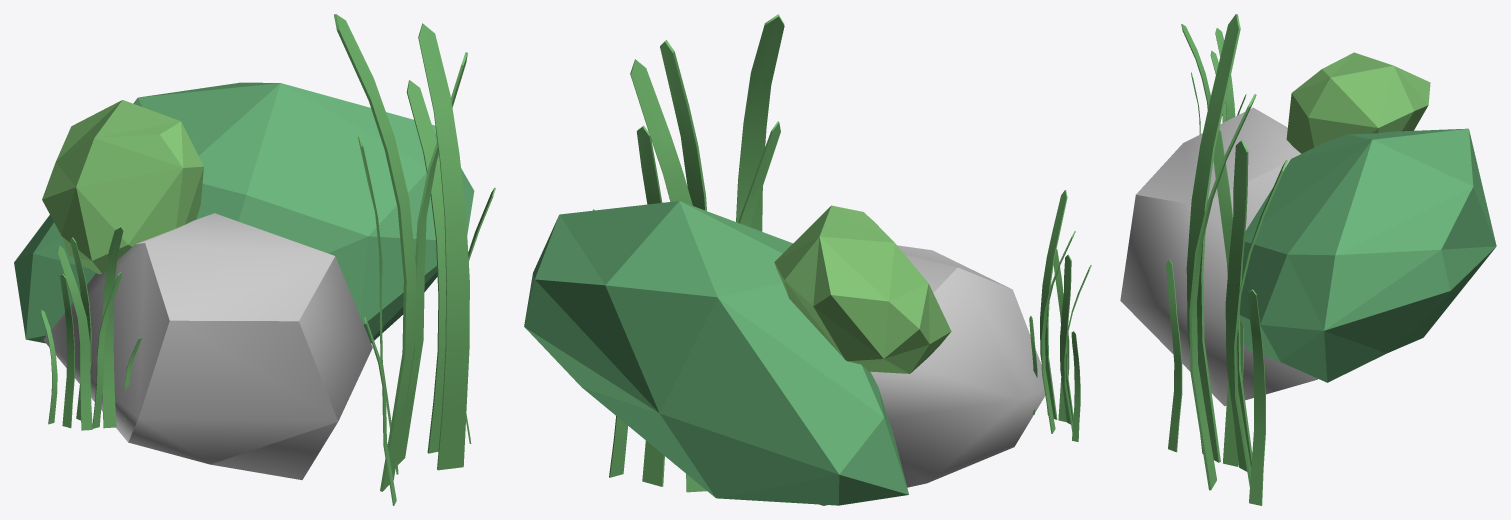
Rendered from Park_Struik_NEW_1.fbx.
The picture shows the model from 3 angles, left to right: view 1: azimuth 30°, elevation 25°; view 2: azimuth 150°, elevation 25°; view 3: azimuth 270°, elevation 25°; orthographic projection. The views are drawn at different scales.
Visible parts, largest first — view 1: polySurface787; view 2: polySurface787; view 3: polySurface787.
Part boxes in pixels (<box>): polySurface787: <box>14,14,495,505</box>; polySurface787: <box>524,14,1091,505</box>; polySurface787: <box>1120,14,1496,505</box>.
Size of the model in its own units: 4.75 by 4.49 by 3.58.
